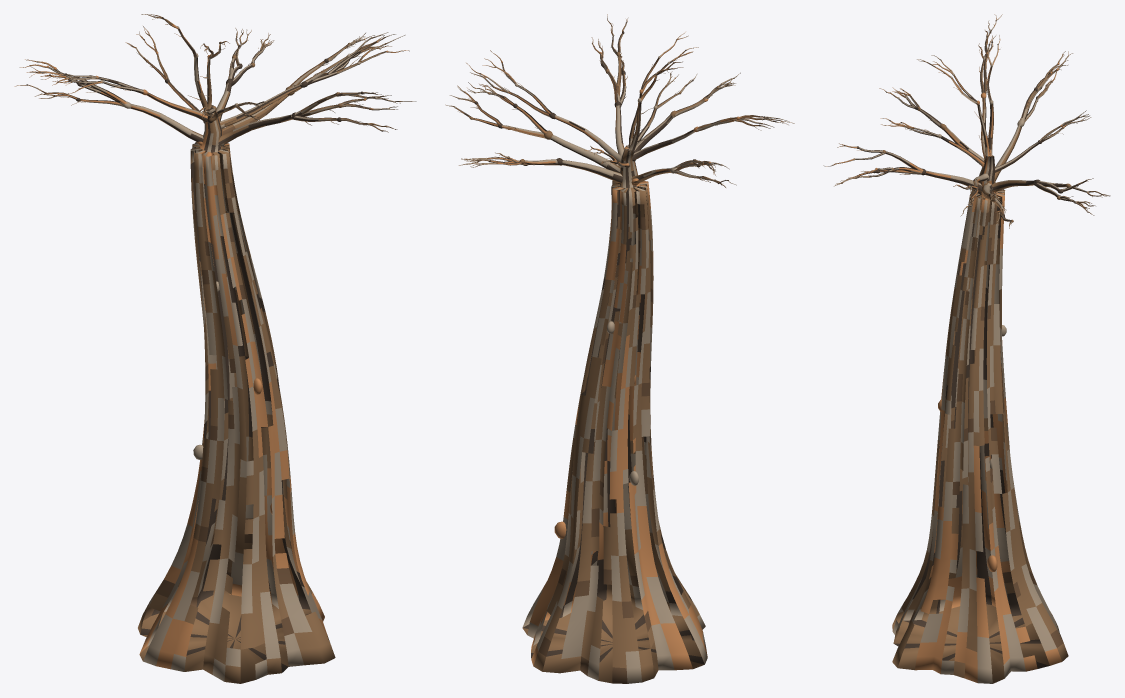
3 renders of one model, left to right at view 1: azimuth 30°, elevation 25°; view 2: azimuth 150°, elevation 25°; view 3: azimuth 270°, elevation 25°, orthographic. The views are drawn at different scales.
Parts seen in each view (by area): view 1: main_trunk, branch_and_twig_network; view 2: main_trunk, branch_and_twig_network; view 3: main_trunk, branch_and_twig_network.
Boxes of the visible parts, bbox=[...] form: main_trunk: bbox=[138, 142, 335, 683]; branch_and_twig_network: bbox=[14, 14, 416, 152]; main_trunk: bbox=[522, 180, 707, 683]; branch_and_twig_network: bbox=[445, 14, 794, 188]; main_trunk: bbox=[892, 189, 1068, 683]; branch_and_twig_network: bbox=[823, 14, 1110, 228].
Bounding box in the file's own units: 2.59 × 4.35 × 1.97.
